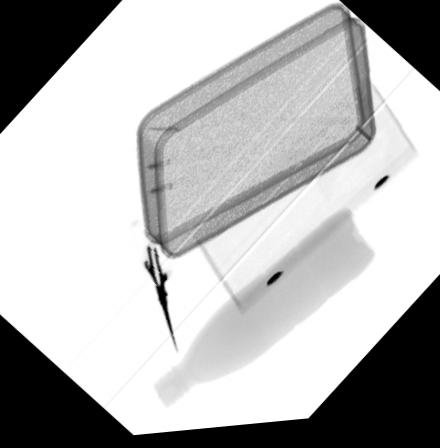Scissors: (125, 218, 177, 358)
